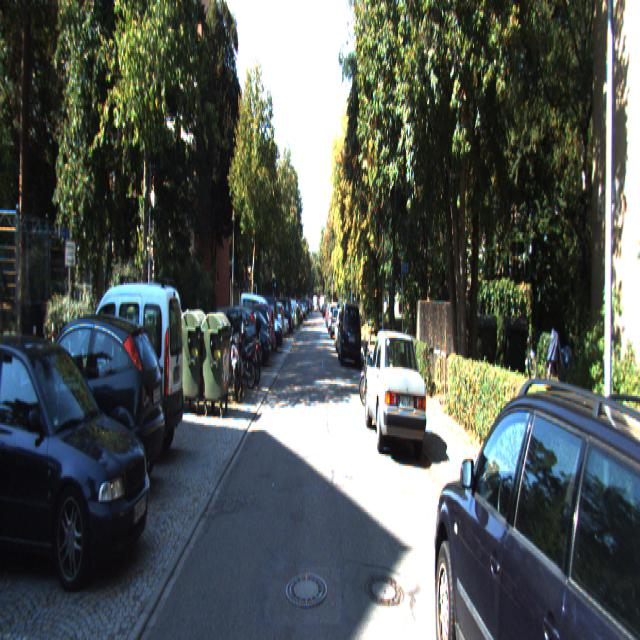Car: (428, 348, 640, 638), (0, 328, 157, 594), (5, 308, 167, 509), (69, 280, 186, 457), (363, 322, 430, 458), (209, 305, 260, 371), (226, 326, 259, 389), (337, 298, 362, 366)
